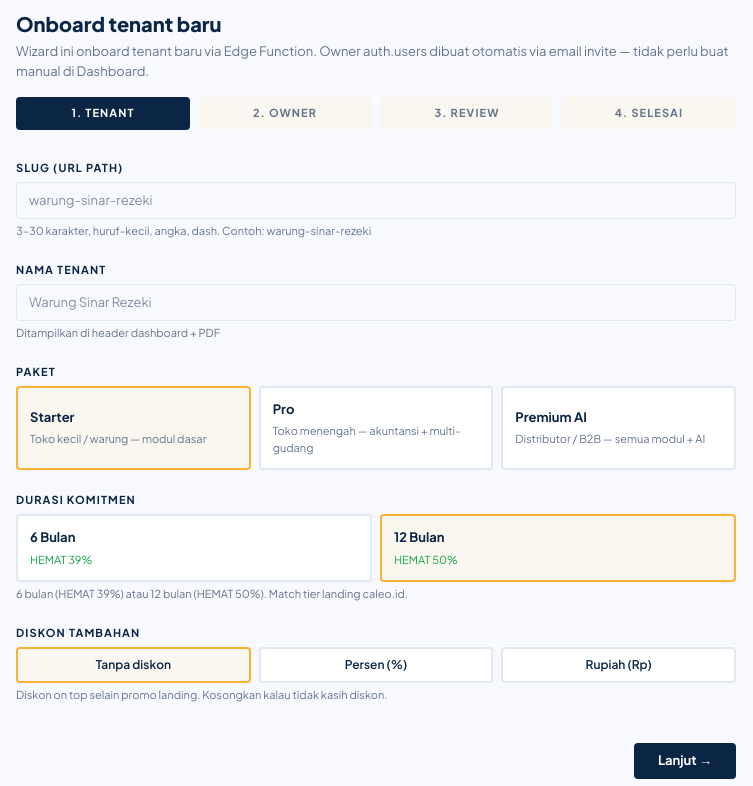
TenantWizard › owner step no longer has UUID input field
In the field with placeholder "warung-sinar-rezeki": (376, 200) 16,182 -> 736,219, type "toko-baru"
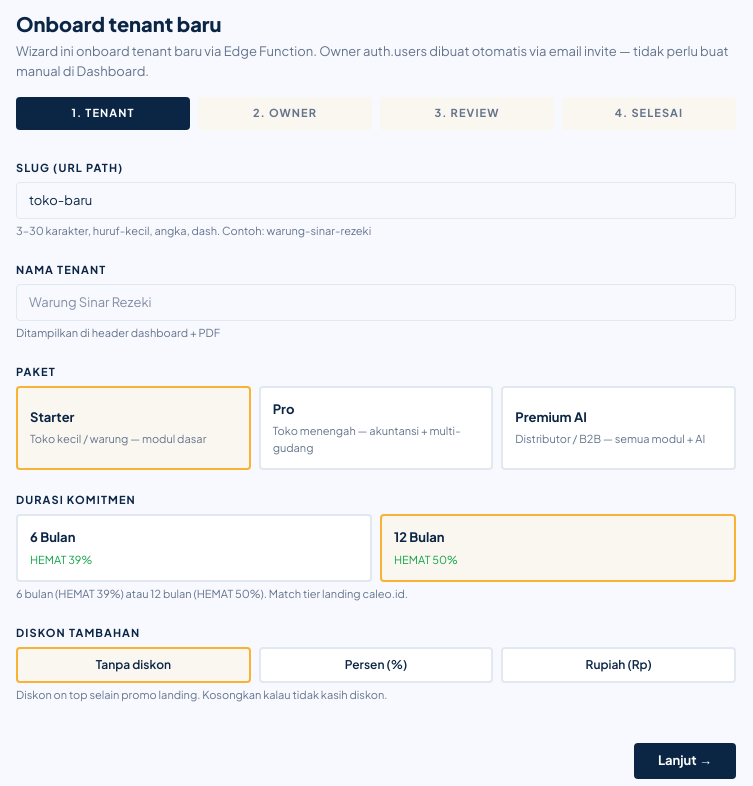
In the field with placeholder "Warung Sinar Rezeki": (376, 302) 16,284 -> 736,321, type "Toko Baru"
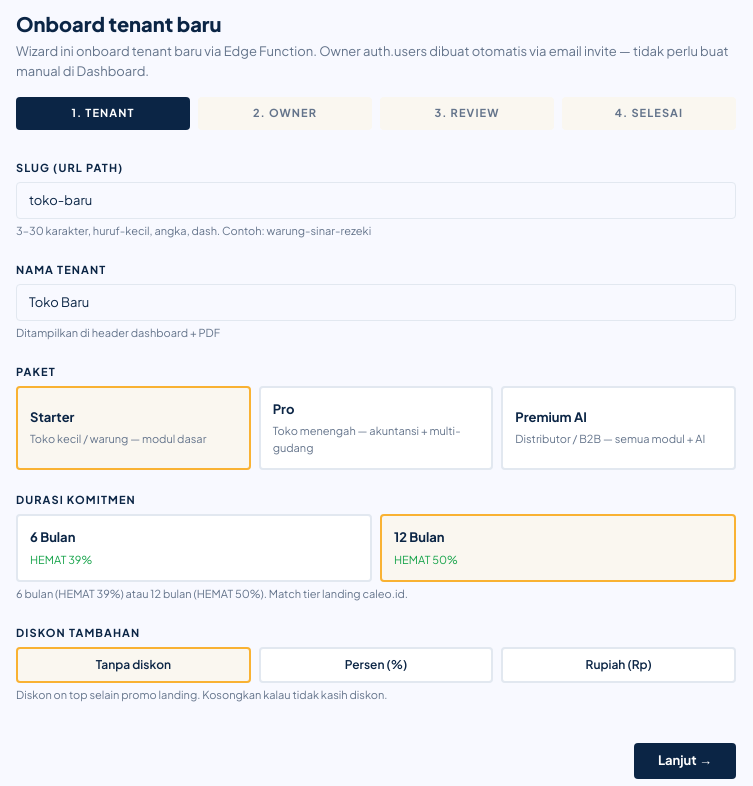
Click the button "Lanjut →": (685, 761) 634,743 -> 736,778
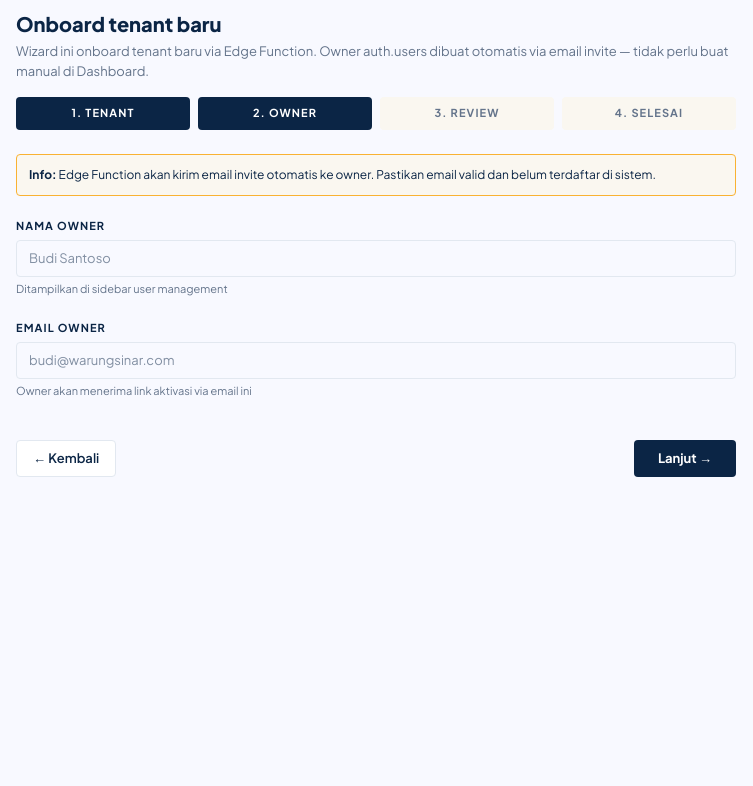
Result: the field with placeholder "Budi Santoso" is shown at 16,240 -> 736,277
Result: the field with placeholder "budi@warungsinar.com" is shown at 16,342 -> 736,379
